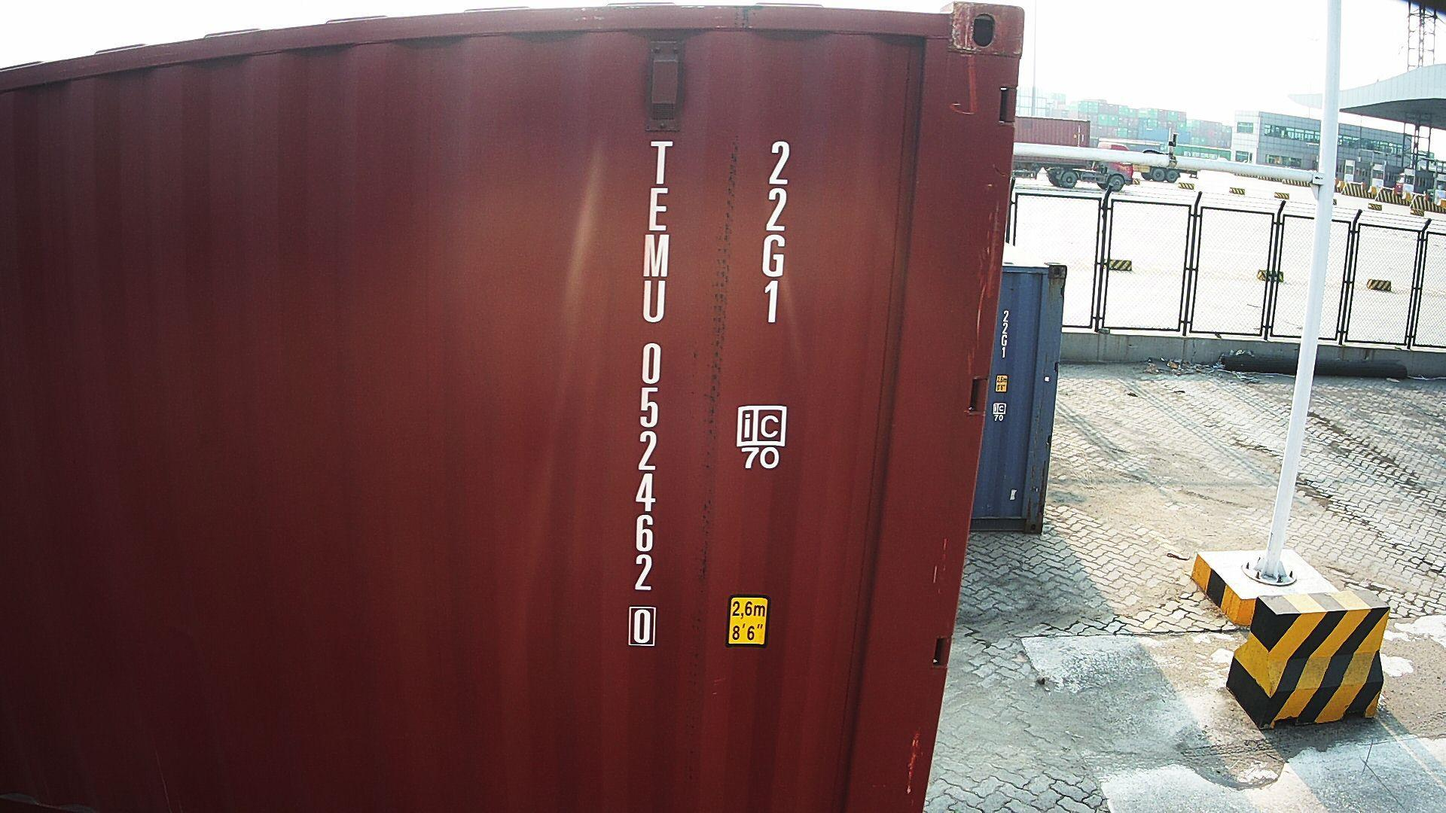container-numbers: (621, 133, 679, 656), (752, 137, 802, 330)
